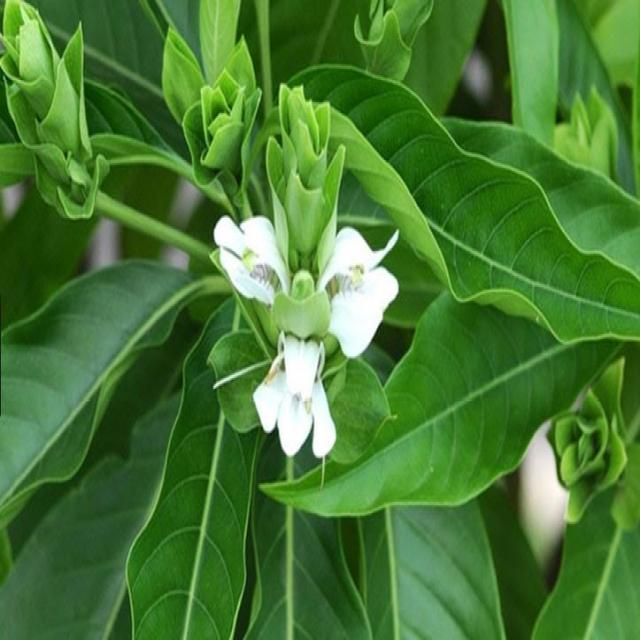Malabar Nut: (198, 138, 396, 486), (22, 35, 246, 234), (534, 351, 640, 564)
